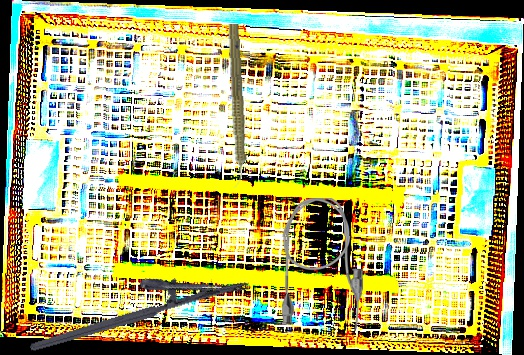Cannula: (279, 197, 365, 333)
Handpiece: (221, 23, 251, 189)
Needle Holder: (20, 250, 252, 354)
